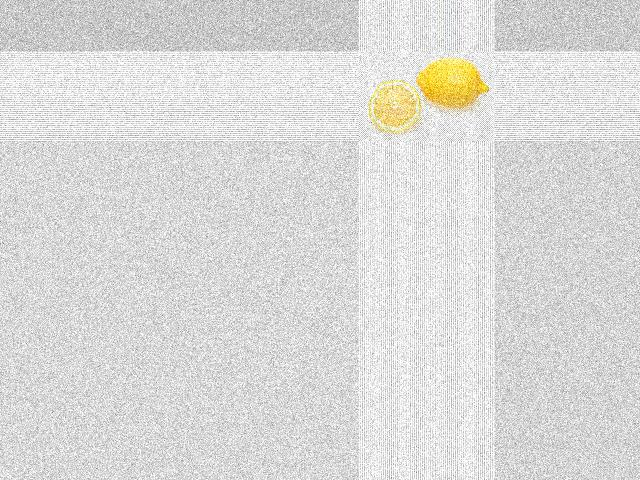lemon: (408, 53, 488, 105)
